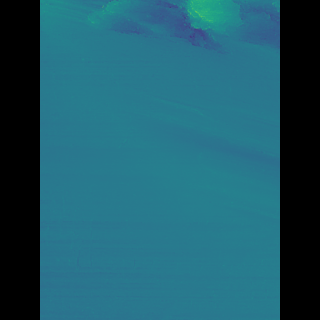Loch: (92, 0, 250, 58)
